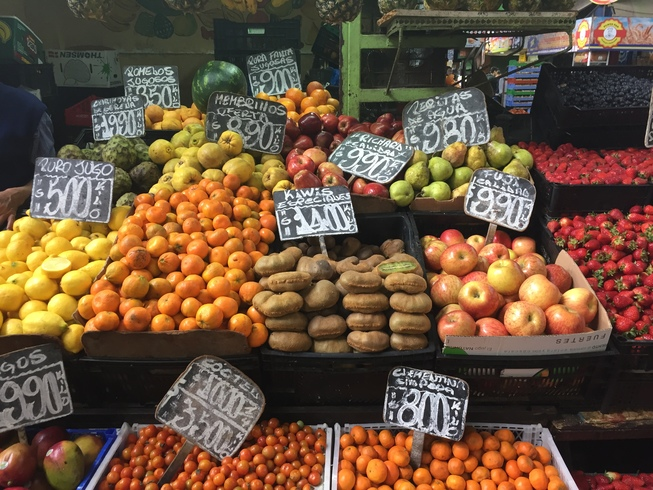precio: (158, 359, 268, 464), (382, 361, 473, 448), (1, 338, 76, 434), (204, 89, 292, 162), (32, 152, 117, 227), (460, 162, 537, 239), (334, 126, 416, 197), (268, 184, 360, 242), (402, 95, 491, 152), (243, 44, 308, 105), (120, 61, 185, 117), (88, 94, 151, 146)
